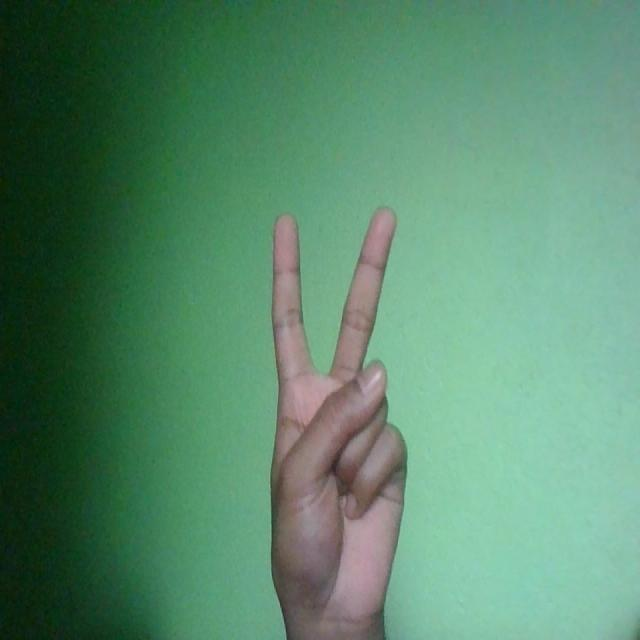Fist: (269, 206, 407, 635)
